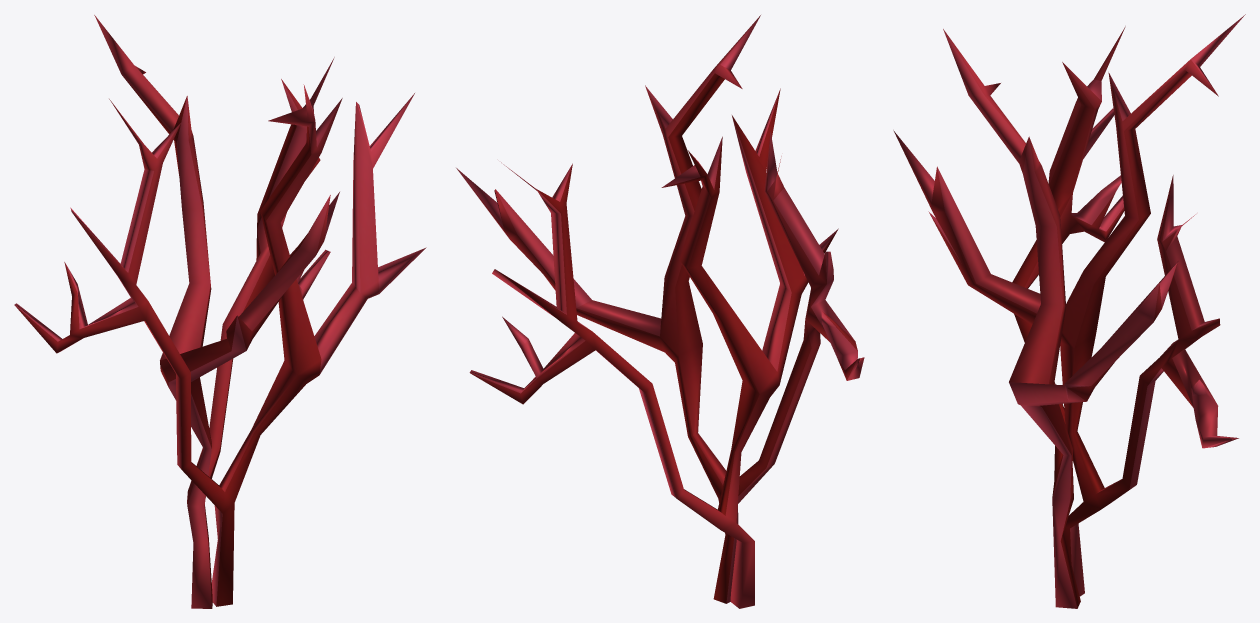
The model's file is seaGrassBigRed.fbx.
3 views of the same model, side by side, from view 1: azimuth 30°, elevation 25°; view 2: azimuth 150°, elevation 25°; view 3: azimuth 270°, elevation 25° (orthographic). The views are drawn at different scales.
Parts seen in each view (by area): view 1: seaGrassBigRedObject; view 2: seaGrassBigRedObject; view 3: seaGrassBigRedObject.
Boxes of the visible parts, x1=… form: seaGrassBigRedObject: x1=14, y1=15, x2=426, y2=608; seaGrassBigRedObject: x1=456, y1=15, x2=864, y2=608; seaGrassBigRedObject: x1=893, y1=14, x2=1245, y2=608.
Size of the model in its own units: 0.8823 by 1.14 by 0.6177.
1 material, 1 textured.
